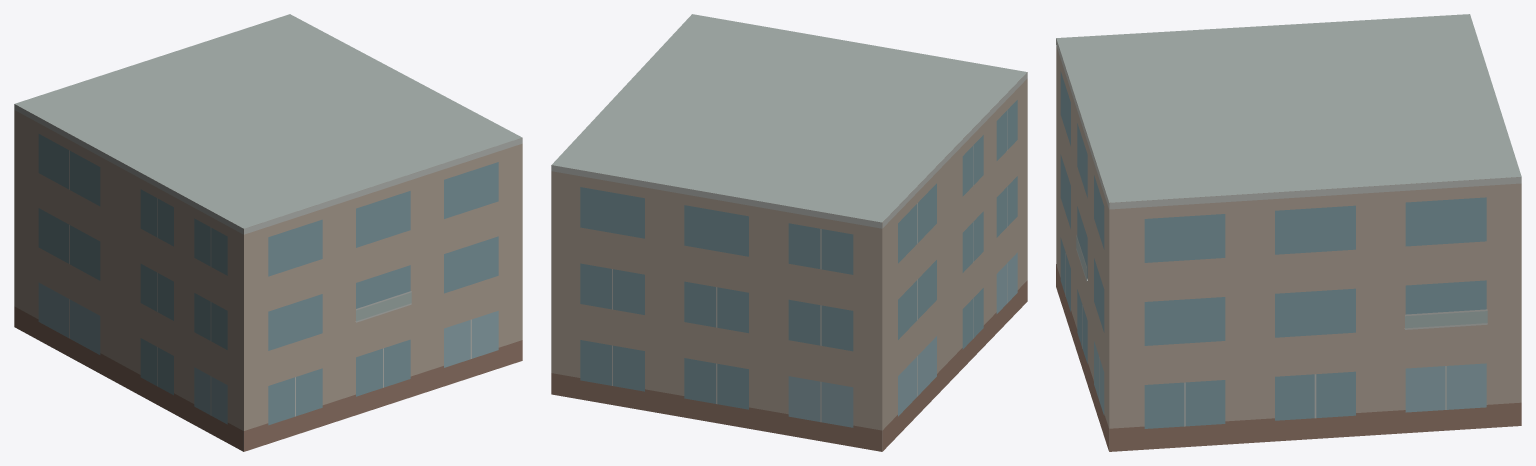
The model's file is survey-upis-33035365.glb.
3 renders of one model, left to right at view 1: azimuth 30°, elevation 25°; view 2: azimuth 150°, elevation 25°; view 3: azimuth 270°, elevation 25°, orthographic. The views are drawn at different scales.
Parts seen in each view (by area): view 1: survey-upis-33035365.tmp; view 2: survey-upis-33035365.tmp; view 3: survey-upis-33035365.tmp.
Part boxes in pixels (bbox=[...]): survey-upis-33035365.tmp: bbox=[14, 14, 522, 451]; survey-upis-33035365.tmp: bbox=[551, 14, 1027, 451]; survey-upis-33035365.tmp: bbox=[1056, 14, 1521, 451].
Bounding box in the file's own units: 14.81 × 9.1 × 15.43.
